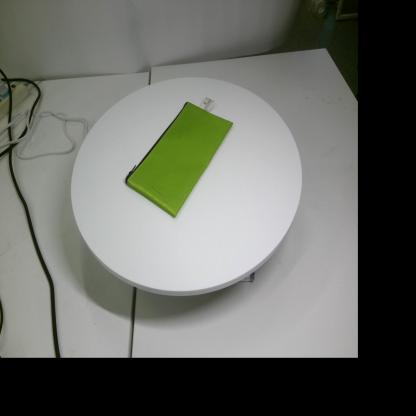Stationery: (125, 97, 233, 217)
